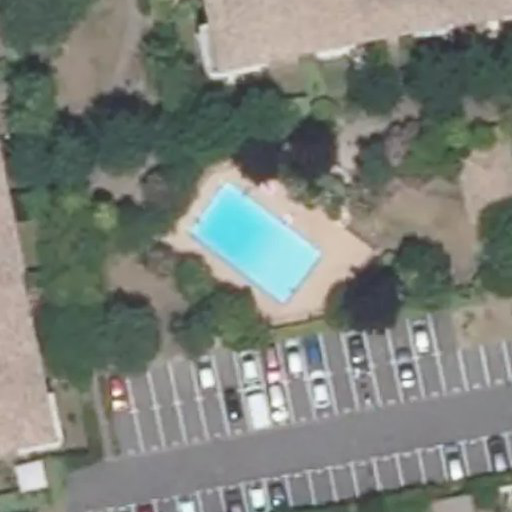pool: (187, 231, 324, 251)
